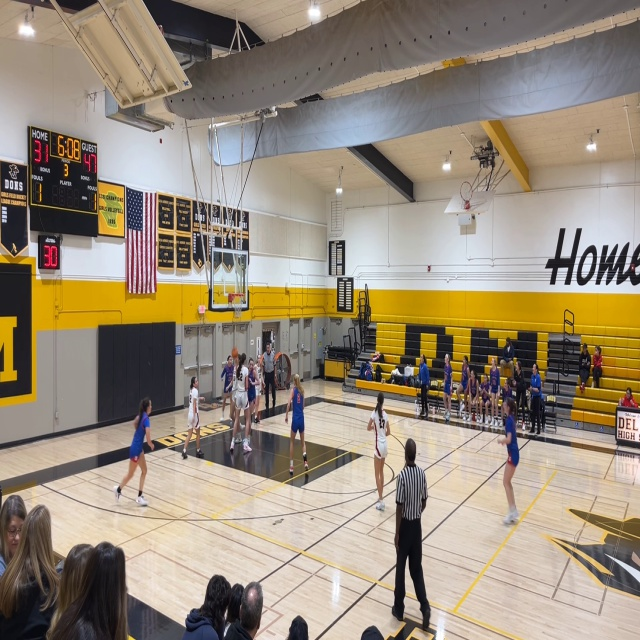Basketball: (231, 348, 239, 357)
